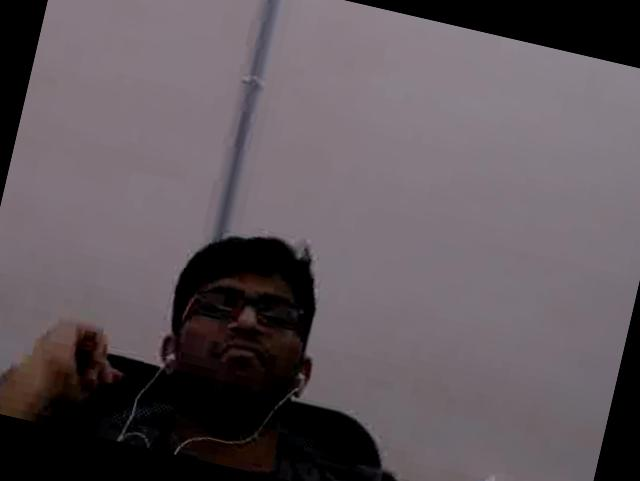bosan: (170, 248, 317, 406)
